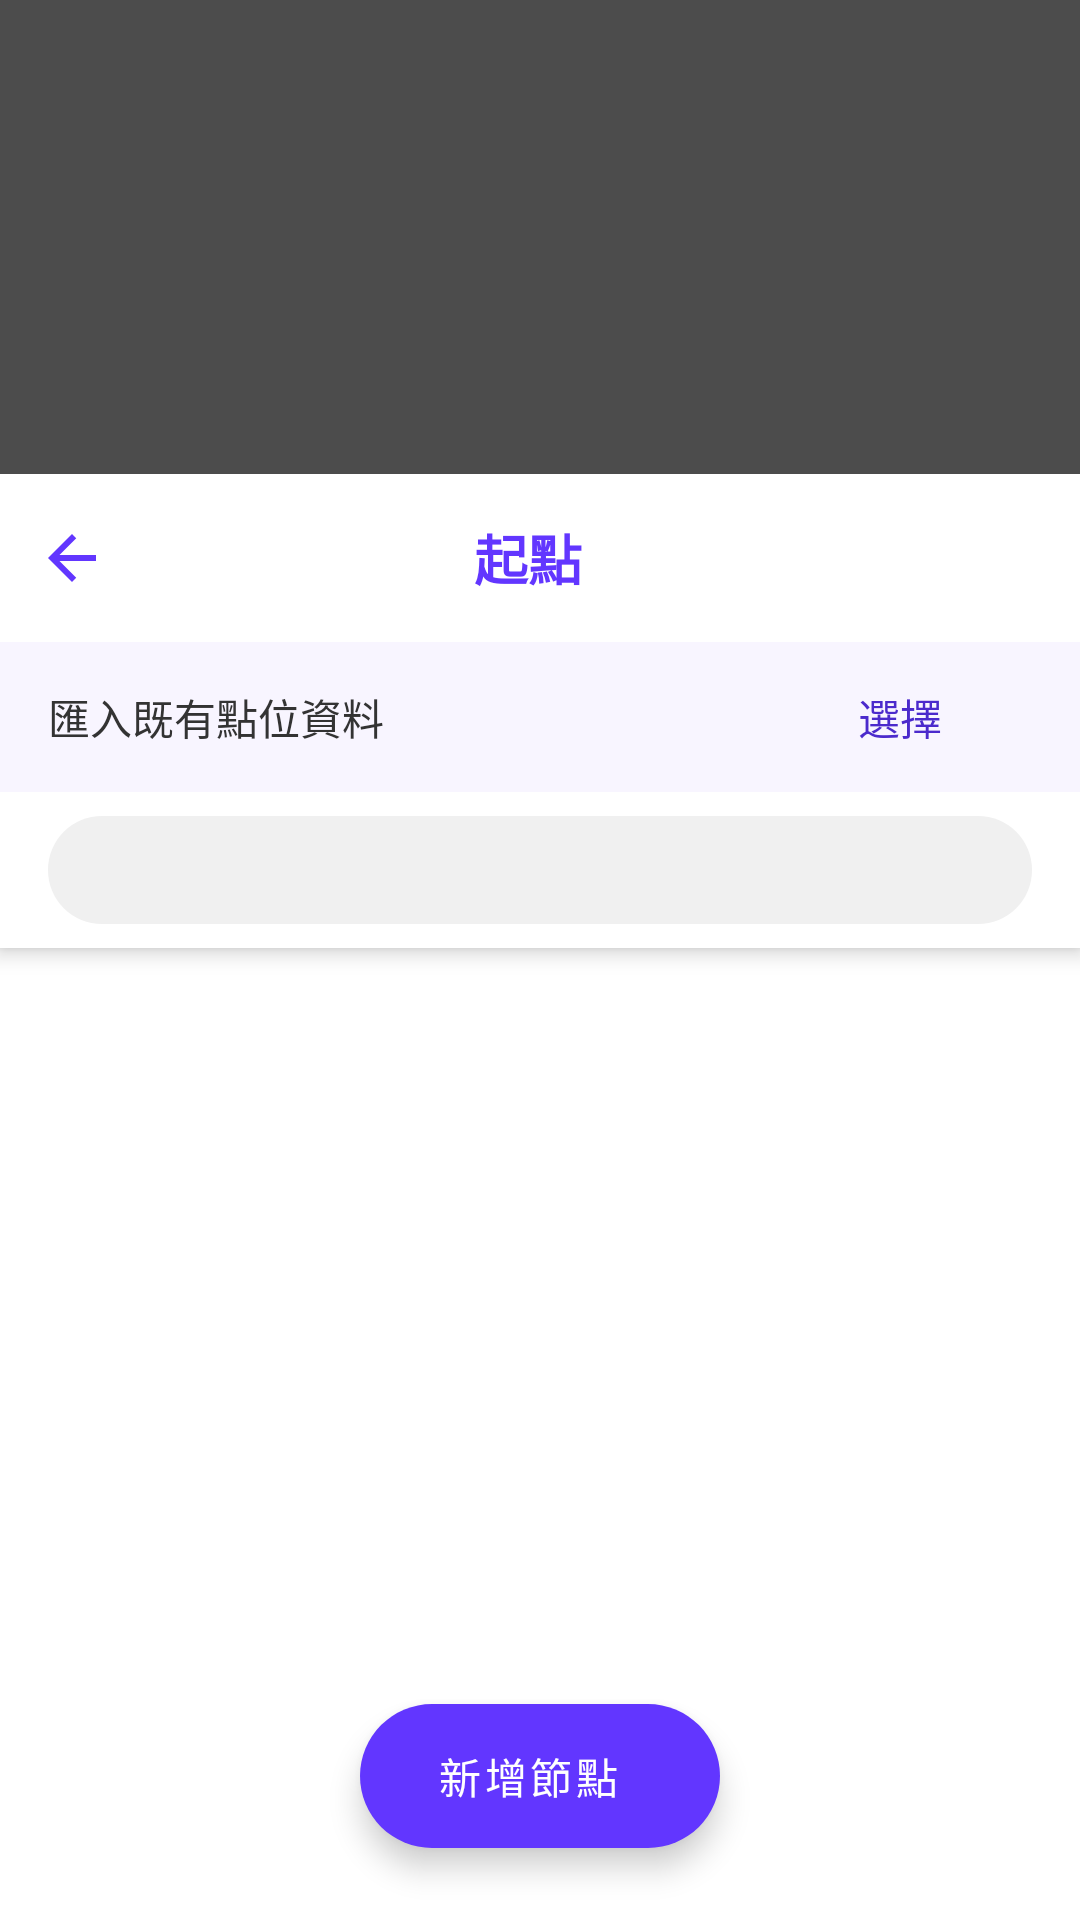

Locate icon controls on the screen. Image size 1080px×1920px, boxes as (x1, y1, x2, y2).
返回: (48, 534, 96, 582)
